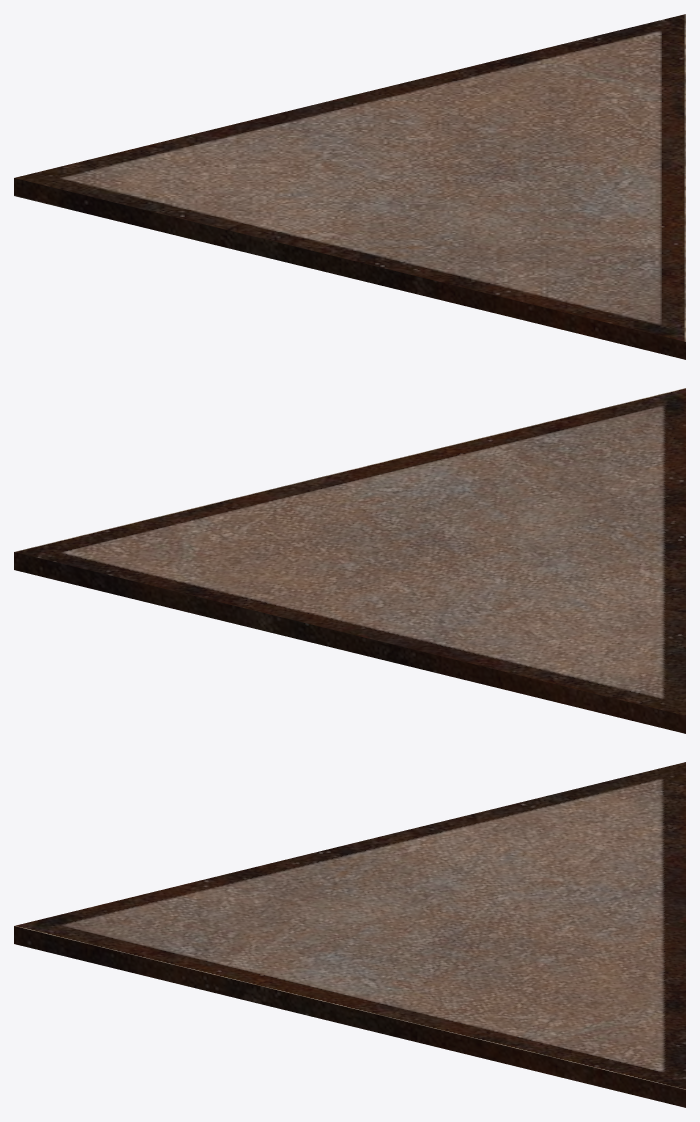
The model's file is metal_floor_triangle_textured.glb.
The picture shows the model from 3 angles, top to bottom: view 1: azimuth 30°, elevation 25°; view 2: azimuth 150°, elevation 25°; view 3: azimuth 270°, elevation 25°; orthographic projection.
Visible parts, largest first — view 1: Circle; view 2: Circle; view 3: Circle.
Boxes of the visible parts, left/top/right/bottom form: Circle: left=14, top=14, right=685, bottom=359; Circle: left=14, top=388, right=685, bottom=733; Circle: left=14, top=762, right=685, bottom=1107.
Bounding box in the file's own units: 2 × 0.0512 × 1.73.
1 material, 1 textured.
